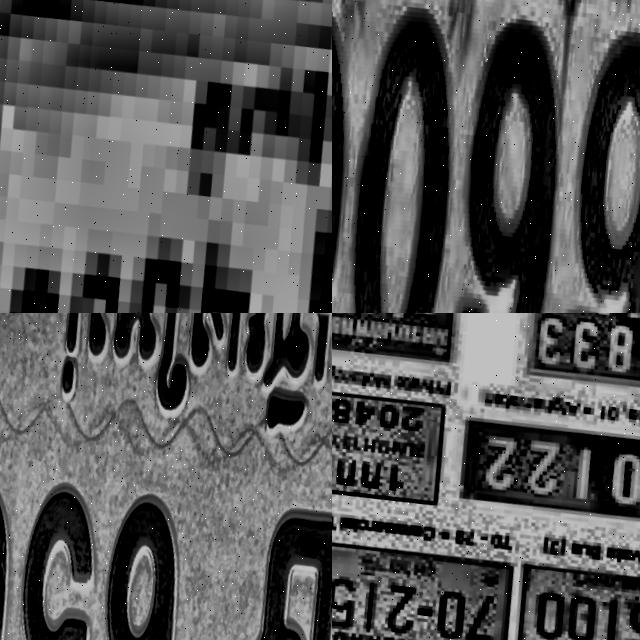license-plate: (0, 313, 332, 640), (0, 0, 332, 313), (332, 0, 640, 313), (332, 532, 515, 640), (332, 389, 448, 510), (503, 565, 640, 640)
